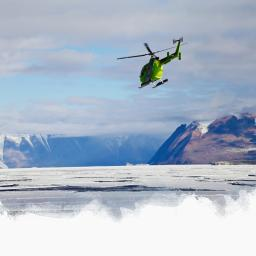helicopter: (116, 34, 191, 93)
